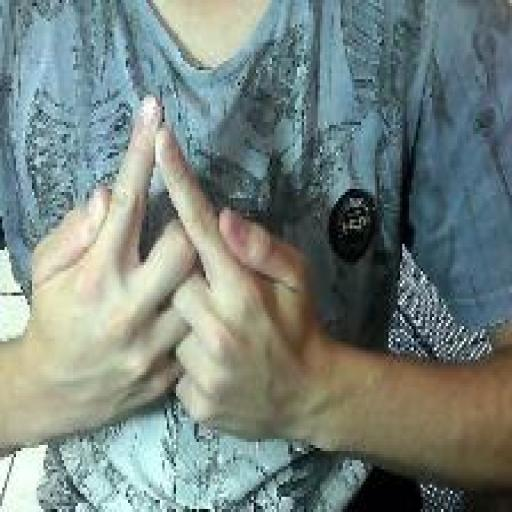Uma -horse-: (26, 88, 319, 448)
